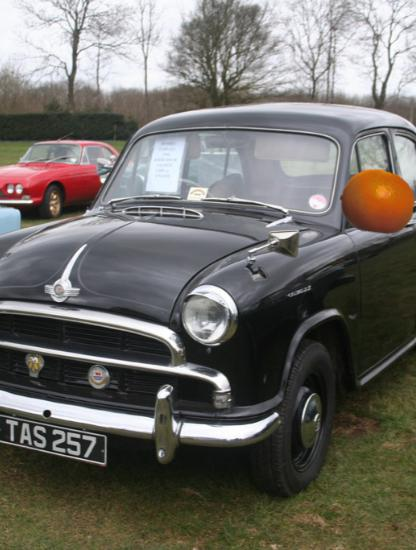Grapefruit: (340, 164, 416, 240)
